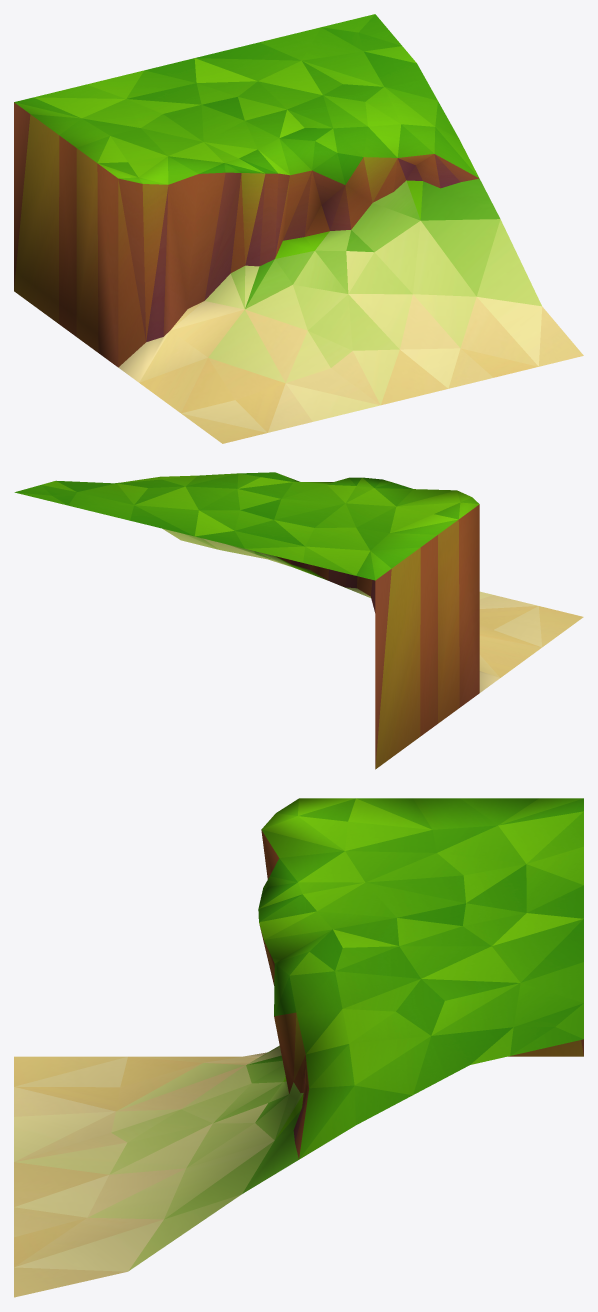
Rendered from GL-Terrain-part-16.fbx.
3 renders of one model, top to bottom at view 1: azimuth 30°, elevation 25°; view 2: azimuth 150°, elevation 25°; view 3: azimuth 270°, elevation 25°, orthographic. The views are drawn at different scales.
Parts seen in each view (by area): view 1: GL-Terrain-part-16; view 2: GL-Terrain-part-16; view 3: GL-Terrain-part-16.
Boxes of the visible parts, box(x1,y1,x2,y2) form: GL-Terrain-part-16: box(14, 14, 583, 443); GL-Terrain-part-16: box(14, 472, 583, 769); GL-Terrain-part-16: box(14, 798, 583, 1297).
Bounding box in the file's own units: 6 × 3 × 6.
